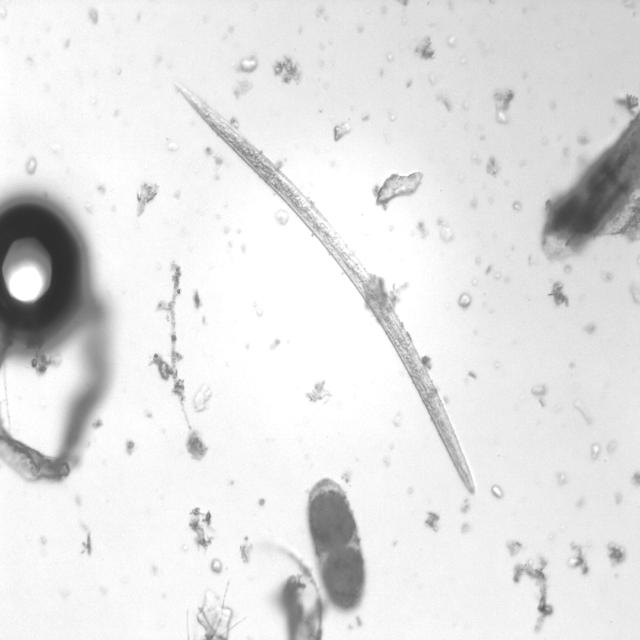Meloidogyne: (163, 81, 482, 508)
